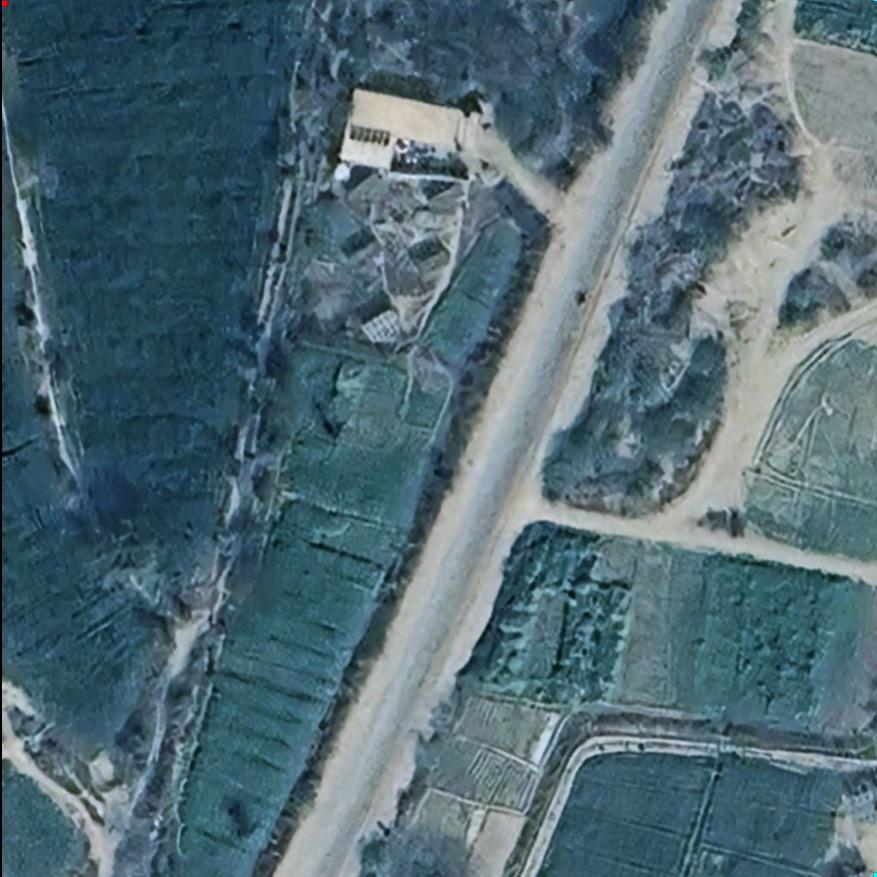Solarpanel: (356, 307, 406, 346), (349, 241, 385, 271), (347, 124, 390, 146)
